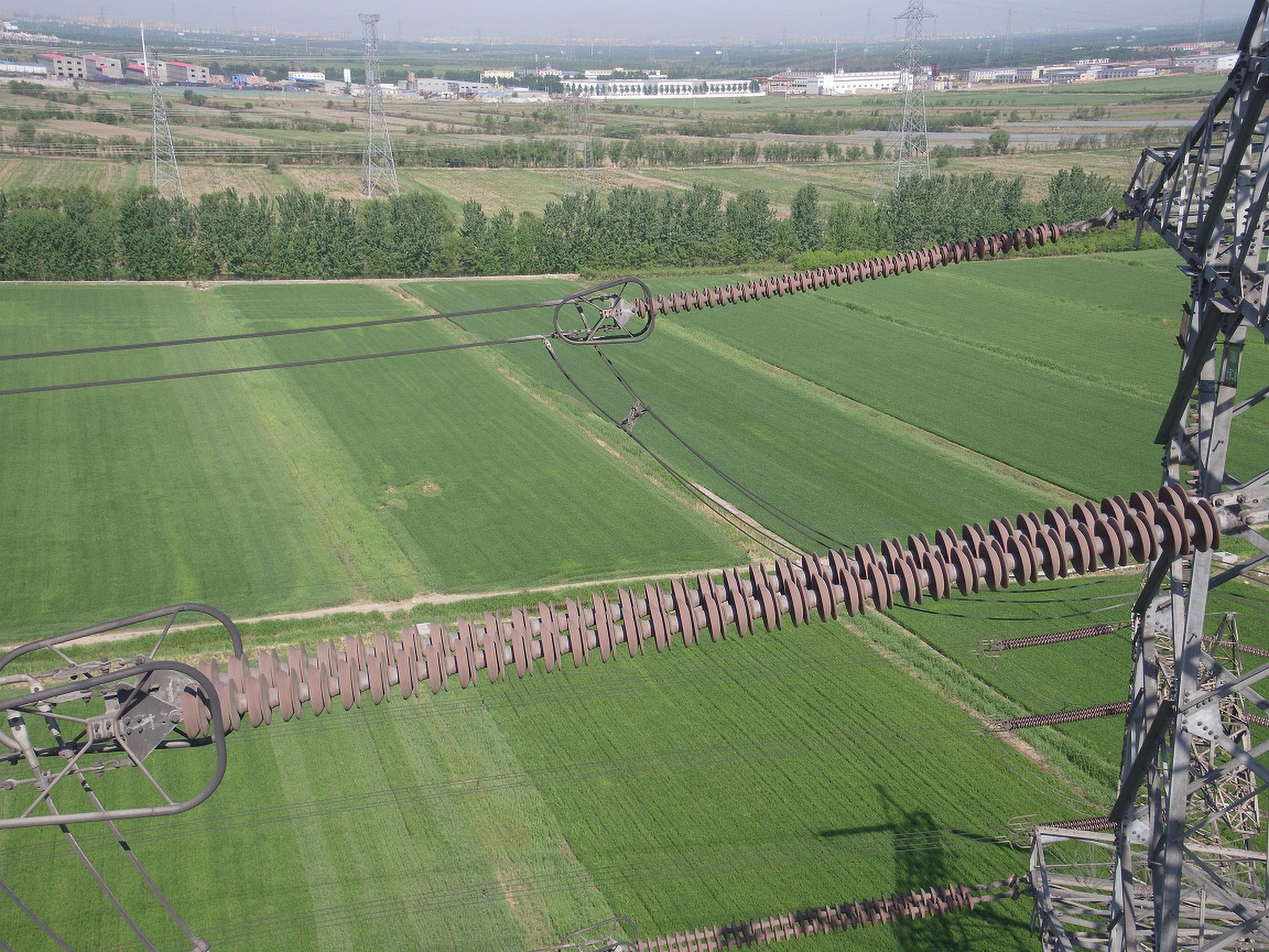insulator: (175, 473, 1229, 747), (632, 218, 1062, 321), (631, 880, 979, 952), (1006, 698, 1136, 733), (997, 620, 1115, 653), (1038, 813, 1121, 836)
